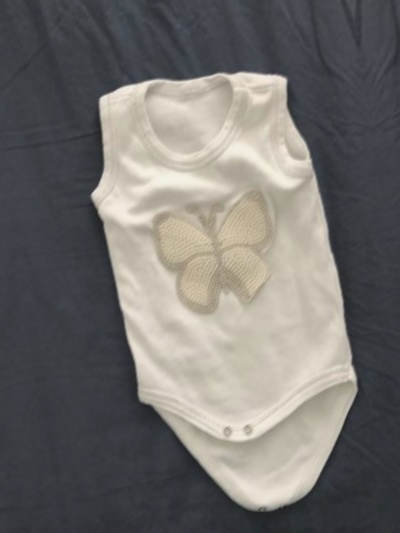Body: (56, 29, 397, 525), (390, 0, 400, 468), (141, 529, 400, 533), (0, 96, 0, 533)
